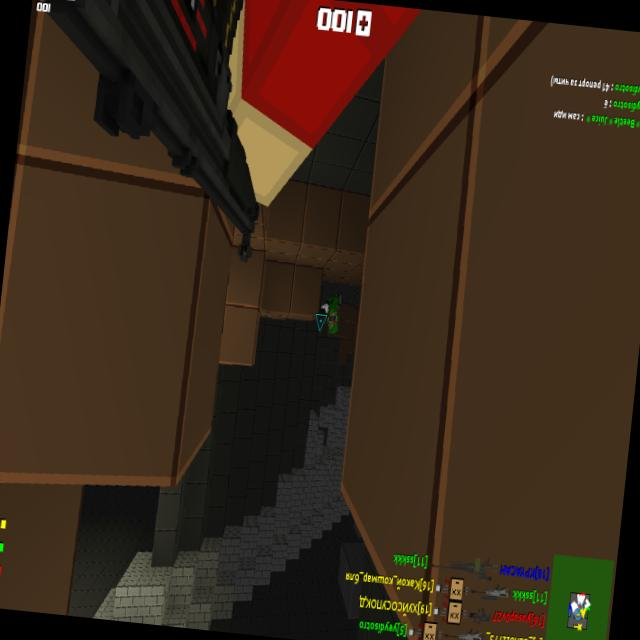enemy: (323, 292, 342, 336)
